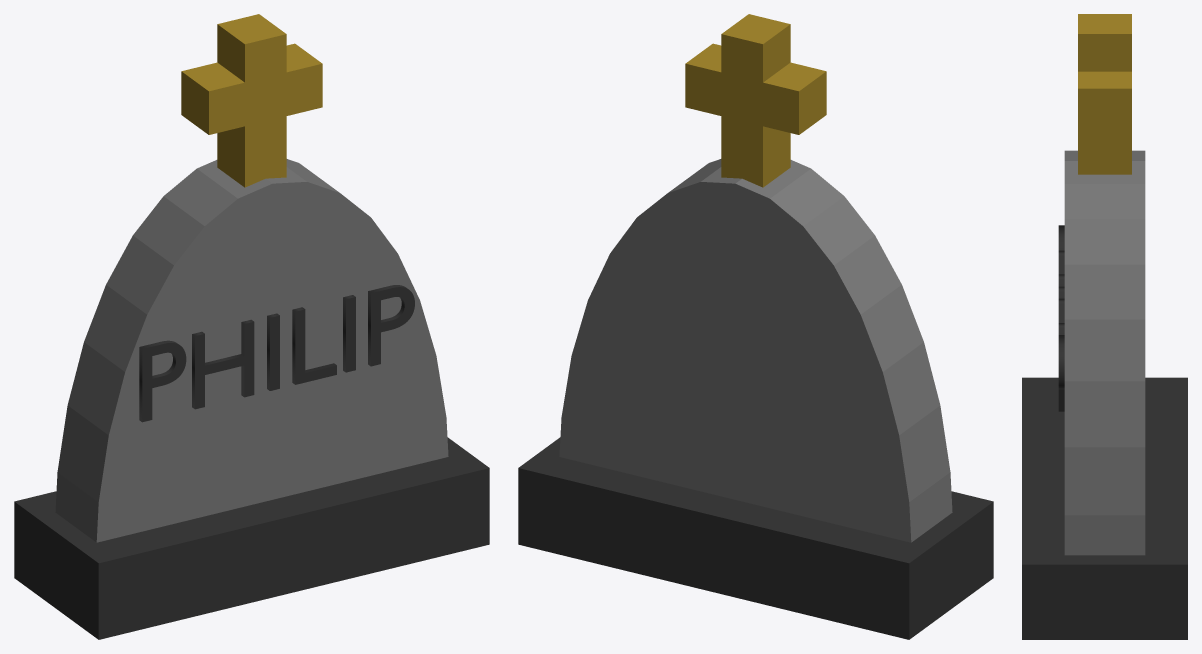
File: Headstone5Philip.fbx
The picture shows the model from 3 angles, left to right: view 1: azimuth 30°, elevation 25°; view 2: azimuth 150°, elevation 25°; view 3: azimuth 270°, elevation 25°; orthographic projection.
Visible parts, largest first — view 1: Base; view 2: Base; view 3: Base.
Part boxes in pixels (x1=…): Base: x1=14, y1=14, x2=489, y2=639; Base: x1=518, y1=14, x2=993, y2=639; Base: x1=1022, y1=14, x2=1187, y2=639.
Bounding box in the file's own units: 214 × 278 × 80.
